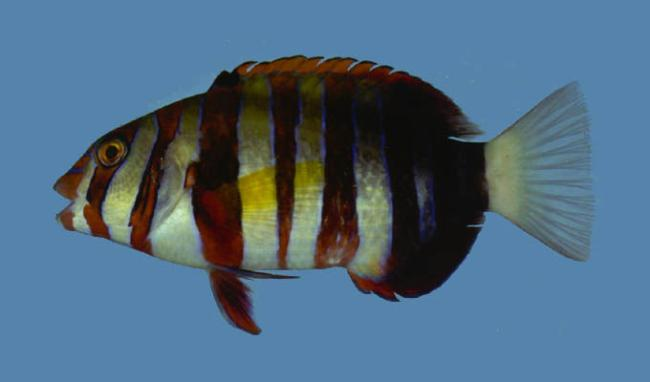fish: (52, 56, 595, 337)
